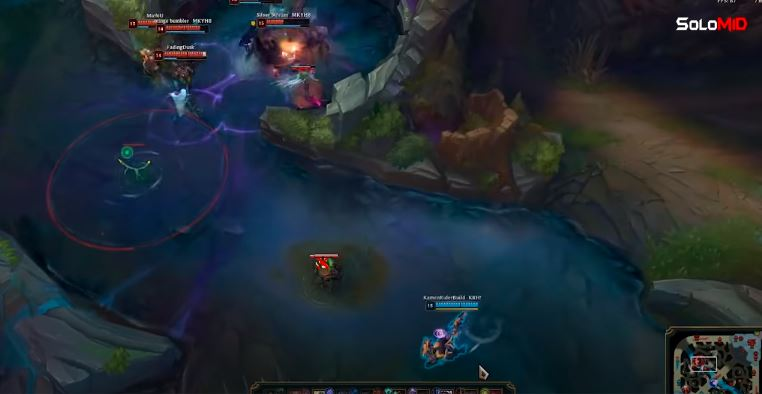bar: (254, 16, 314, 32), (421, 298, 484, 313), (125, 16, 186, 31), (151, 49, 210, 63), (155, 21, 212, 35), (226, 1, 278, 7)
